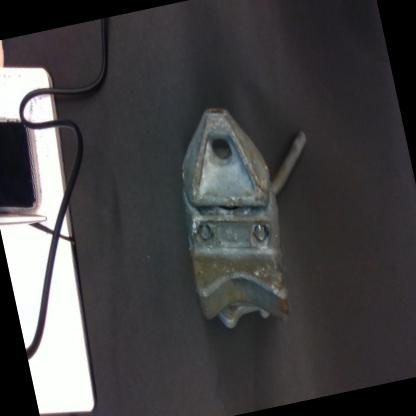Twistlock: (155, 80, 344, 344)
